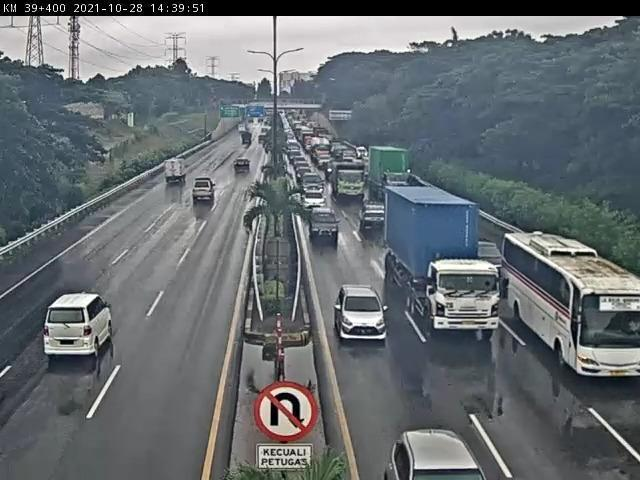bus: (506, 231, 640, 380)
car: (44, 295, 115, 356), (336, 286, 390, 341), (476, 239, 506, 275), (310, 210, 338, 245), (362, 205, 389, 230), (303, 174, 328, 197), (194, 179, 217, 204), (303, 192, 328, 212)
truck: (389, 190, 502, 337), (370, 146, 412, 198), (331, 161, 368, 201), (165, 159, 186, 183)
